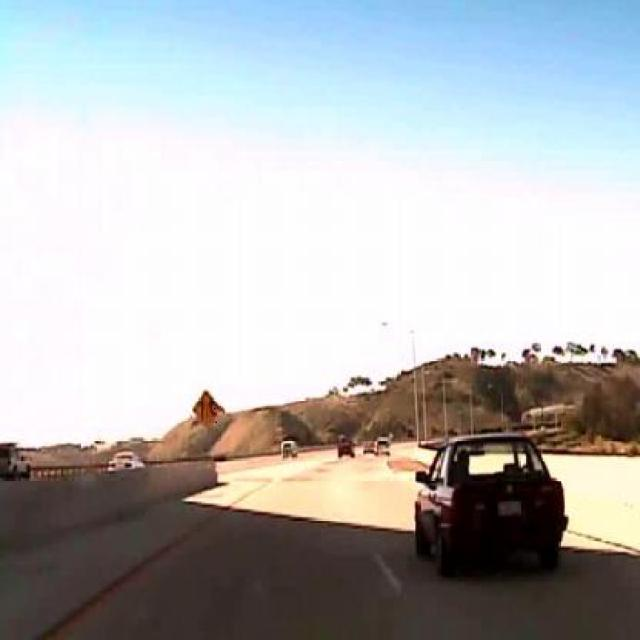addedLane: (193, 389, 224, 429)
